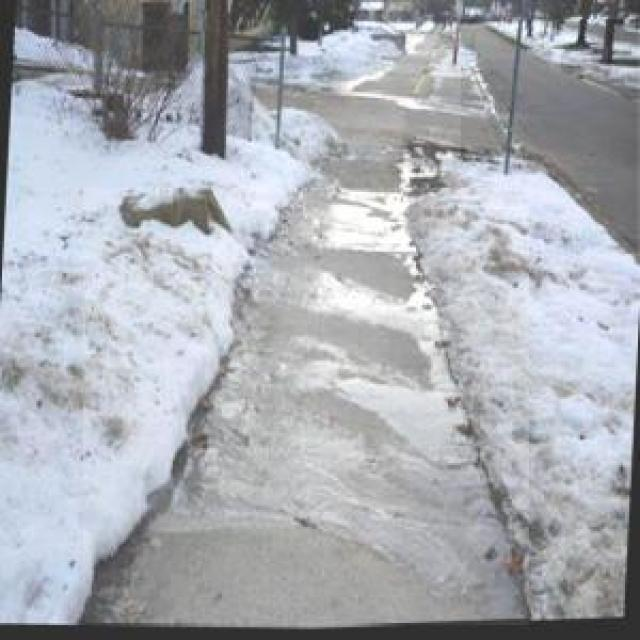clear-road: (463, 20, 638, 252)
ice-road: (83, 189, 529, 625)
